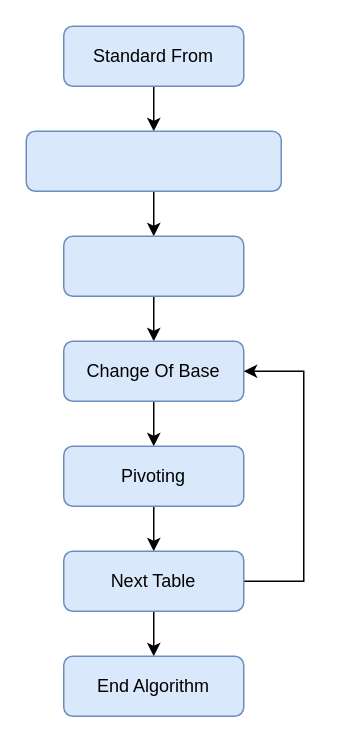
Image size: 342x743. Some labels were removed from this diagram. The centre of each missing label's shape, as x and y in pixels:
BFS(Basic Feasible Solution ): point (153, 160)
Inital Table: point (153, 265)
